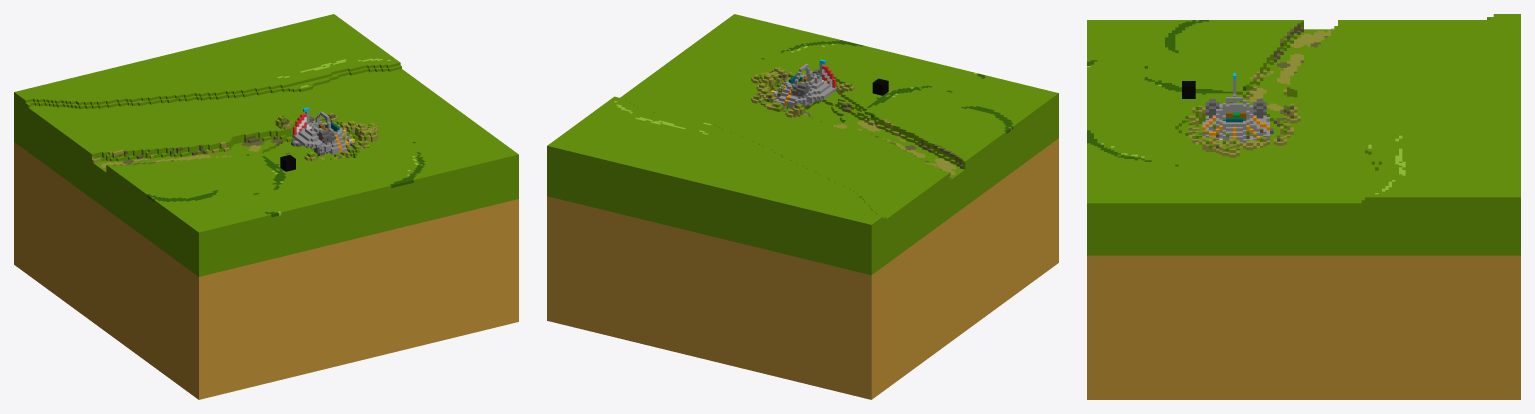
3 views of the same model, side by side, from view 1: azimuth 30°, elevation 25°; view 2: azimuth 150°, elevation 25°; view 3: azimuth 270°, elevation 25° (orthographic). The views are drawn at different scales.
Visible parts, largest first — view 1: 8C; view 2: 8C; view 3: 8C.
Boxes of the visible parts, left/top/right/bottom form: 8C: left=14, top=14, right=518, bottom=399; 8C: left=547, top=14, right=1058, bottom=399; 8C: left=1087, top=14, right=1520, bottom=399.
Size of the model in its own units: 12.8 by 7.8 by 12.8.
1 material, 1 textured.
